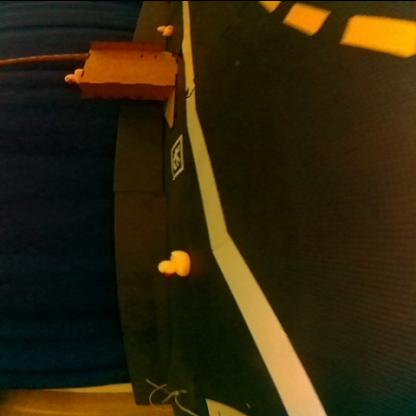Duckie: (158, 250, 190, 276), (64, 67, 82, 83), (156, 23, 172, 35)
QR code: (170, 136, 182, 176)
